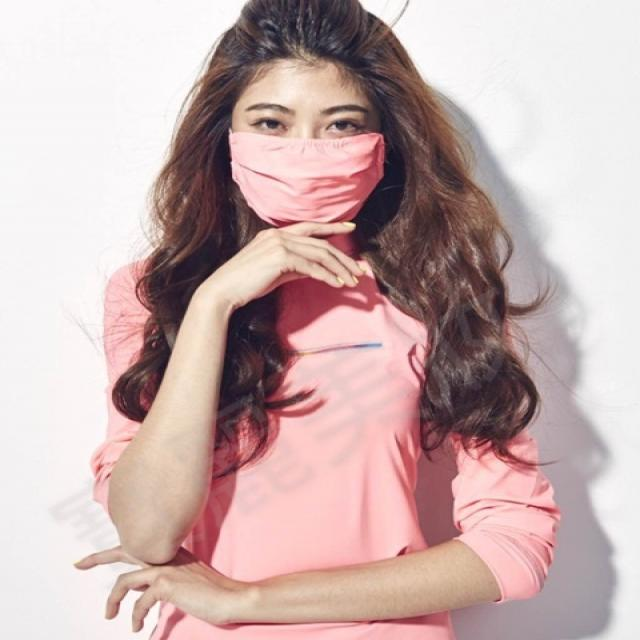mask: (227, 51, 381, 230)
